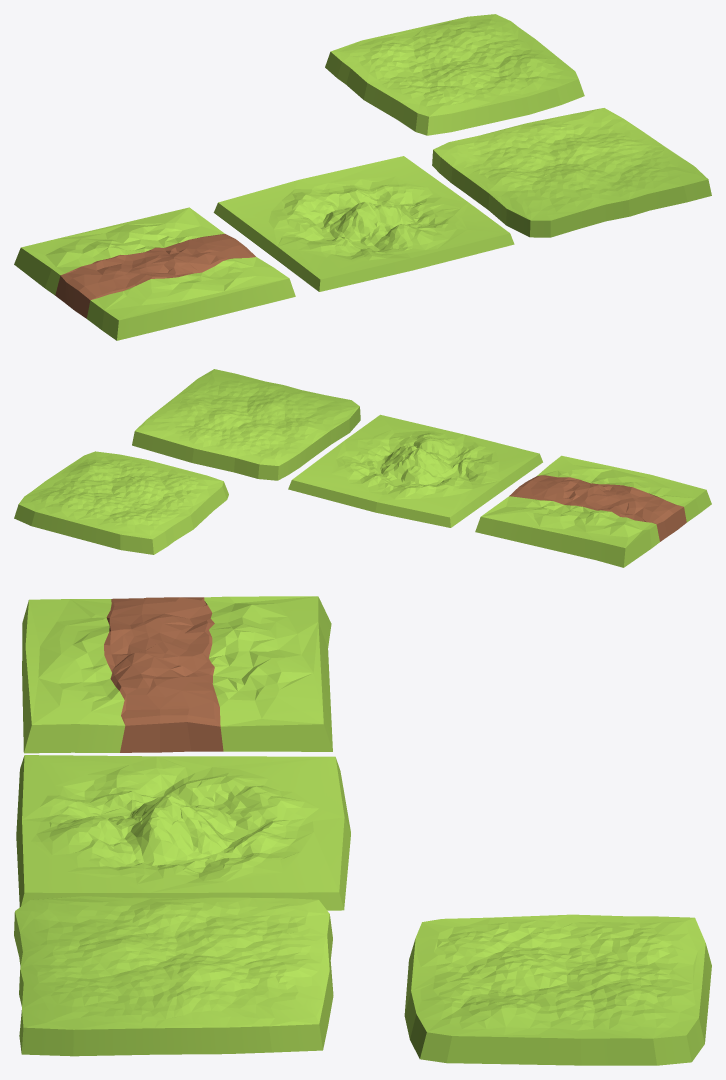
File: Ground.fbx
The picture shows the model from 3 angles, top to bottom: view 1: azimuth 30°, elevation 25°; view 2: azimuth 150°, elevation 25°; view 3: azimuth 270°, elevation 25°; orthographic projection. The views are drawn at different scales.
Visible parts, largest first — view 1: PP_Lake_Ground_04.001_PP_Standard_Material_0, PP_Meadow_08.001_PP_Standard_Material_0, PP_Meadow_Path_05.001_PP_Standard_Material_0, PP_Meadow_07.001_PP_Standard_Material_0; view 2: PP_Lake_Ground_04.001_PP_Standard_Material_0, PP_Meadow_08.001_PP_Standard_Material_0, PP_Meadow_Path_05.001_PP_Standard_Material_0, PP_Meadow_07.001_PP_Standard_Material_0; view 3: PP_Meadow_08.001_PP_Standard_Material_0, PP_Meadow_Path_05.001_PP_Standard_Material_0, PP_Lake_Ground_04.001_PP_Standard_Material_0, PP_Meadow_07.001_PP_Standard_Material_0.
Part boxes in pixels (x1,y1,x2,y2): PP_Lake_Ground_04.001_PP_Standard_Material_0: (213,156,514,291); PP_Meadow_08.001_PP_Standard_Material_0: (432,108,711,237); PP_Meadow_Path_05.001_PP_Standard_Material_0: (14,207,295,340); PP_Meadow_07.001_PP_Standard_Material_0: (325,14,584,135); PP_Lake_Ground_04.001_PP_Standard_Material_0: (288,414,542,527); PP_Meadow_08.001_PP_Standard_Material_0: (132,369,360,480); PP_Meadow_Path_05.001_PP_Standard_Material_0: (475,455,711,567); PP_Meadow_07.001_PP_Standard_Material_0: (14,451,228,554); PP_Meadow_08.001_PP_Standard_Material_0: (14,896,333,1056); PP_Meadow_Path_05.001_PP_Standard_Material_0: (22,596,332,753); PP_Lake_Ground_04.001_PP_Standard_Material_0: (16,755,350,910); PP_Meadow_07.001_PP_Standard_Material_0: (404,914,711,1065).
Size of the model in its own units: 7710 by 352 by 5130.
1 material, 1 textured.
